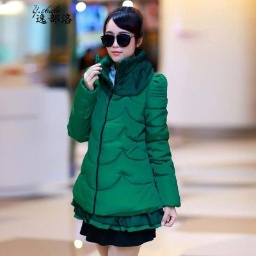face: (99, 5, 147, 63)
